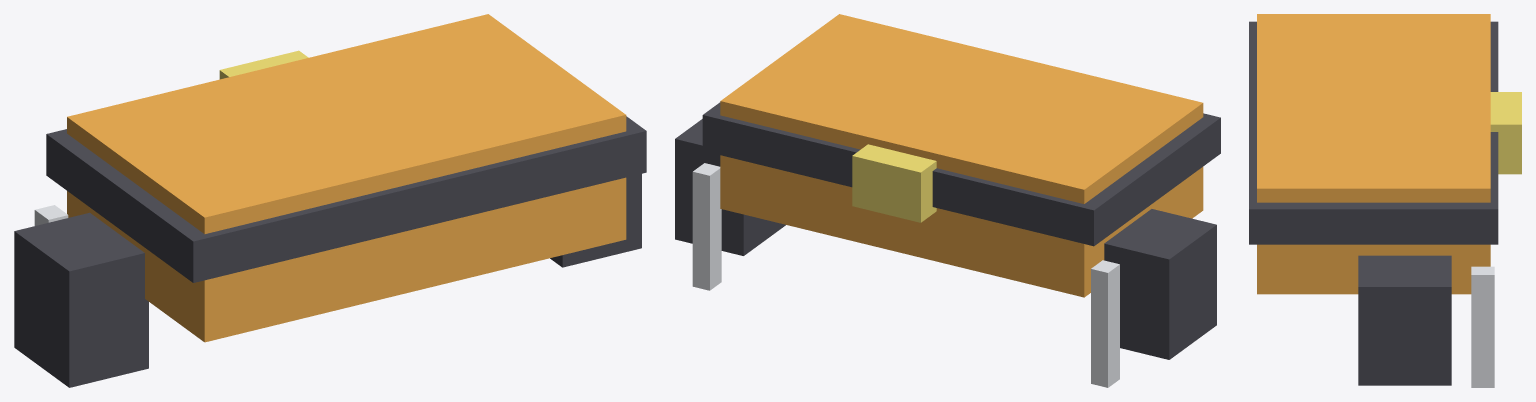
Rendered from mecanico_espacial_cintura.glb.
The picture shows the model from 3 angles, left to right: view 1: azimuth 30°, elevation 25°; view 2: azimuth 150°, elevation 25°; view 3: azimuth 270°, elevation 25°; orthographic projection. The views are drawn at different scales.
Parts seen in each view (by area): view 1: mecanico_espacial_cintura; view 2: mecanico_espacial_cintura; view 3: mecanico_espacial_cintura.
Boxes of the visible parts, x1,y1,x2,y2 form: mecanico_espacial_cintura: (14, 14, 646, 387); mecanico_espacial_cintura: (675, 14, 1220, 387); mecanico_espacial_cintura: (1249, 14, 1521, 387).
Bounding box in the file's own units: 0.72 × 0.265 × 0.35.
